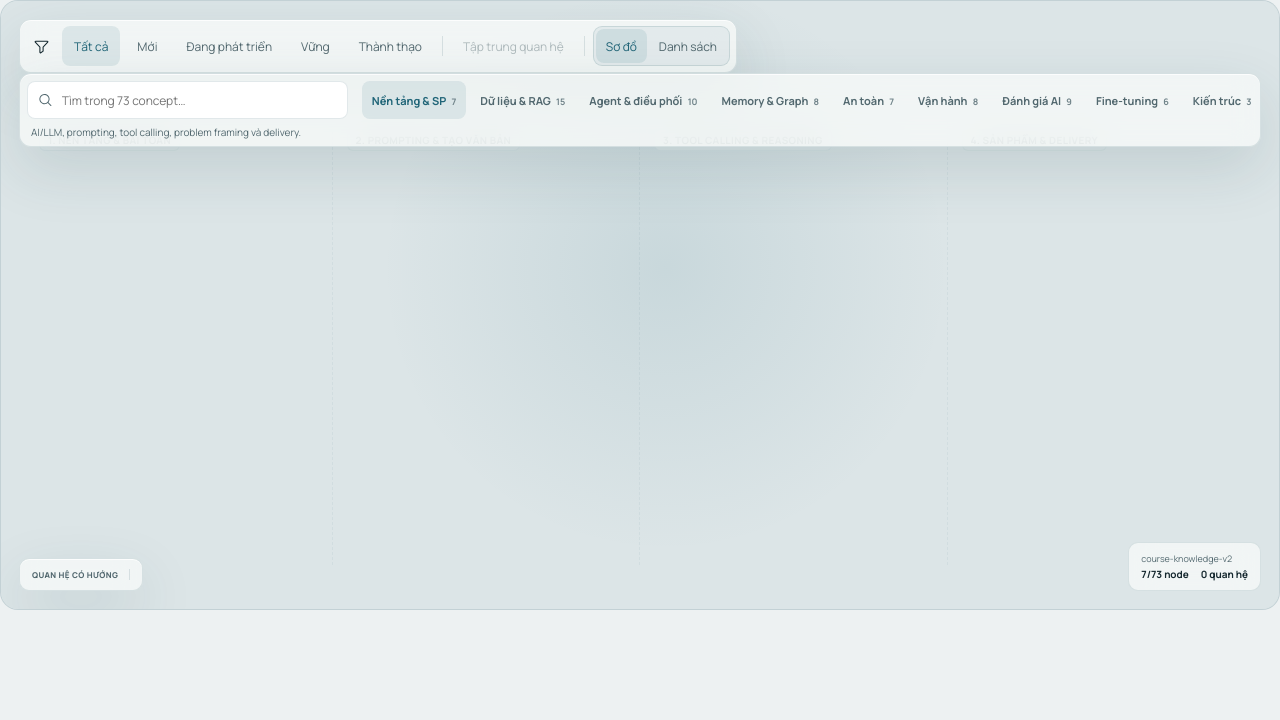
Test case: KnowledgeMapExplorer › uses domain drill-down and global search for the full-course taxonomy
Expected: the search field named "Tìm concept trong toàn bộ bản đồ" is shown, [60,90,337,110]
Click the button "Memory & Graph 8".
click(770, 100)  # box [712,81,829,119]
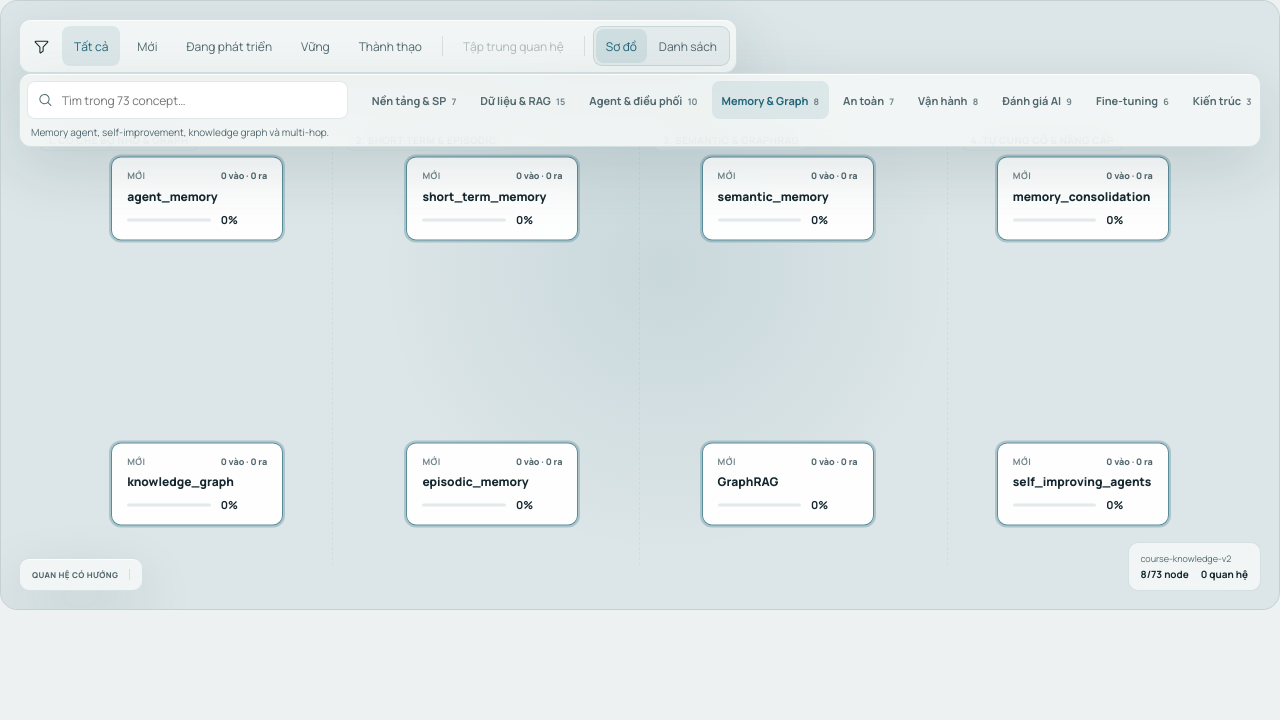
Result: the number of buttons with class "map-node" is 8
Type "GraphRAG" into the search field named "Tìm concept trong toàn bộ bản đồ".
click(198, 100); type("GraphRAG")  # box [60,90,337,110]
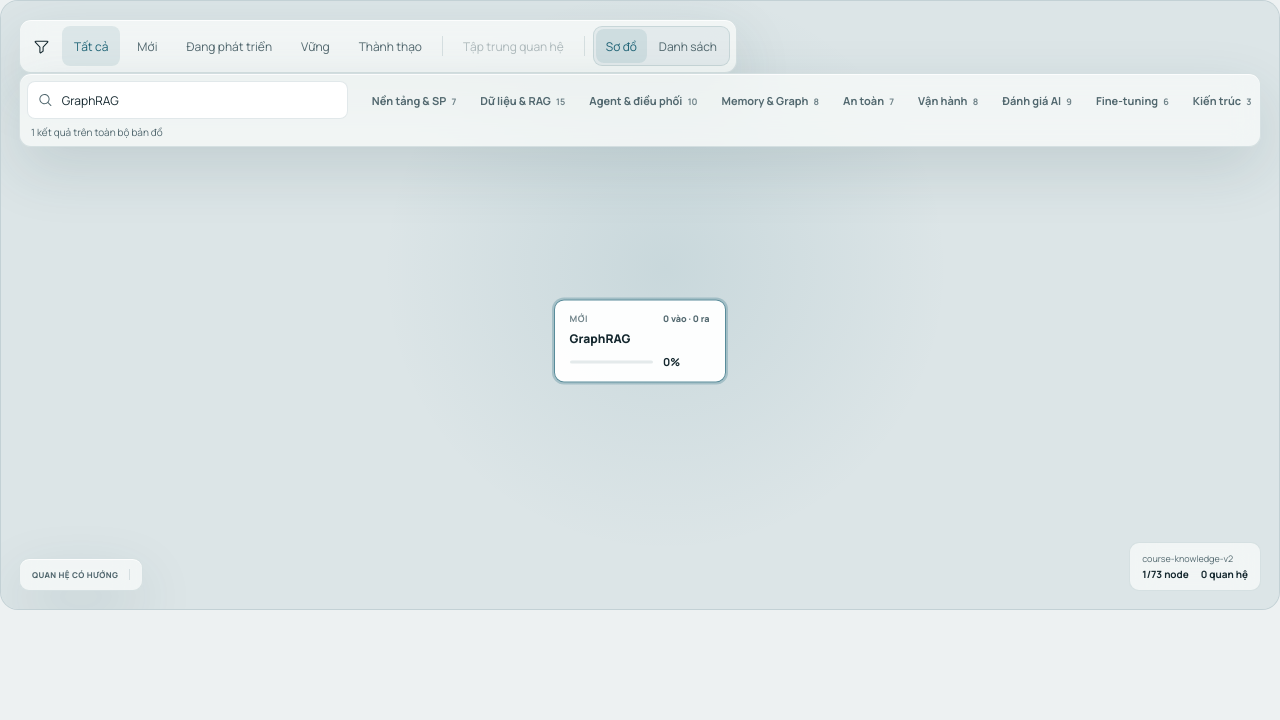
Result: the number of buttons with class "map-node" is 1 at [554,300,726,382]
Result: the text "1 kết quả trên toàn bộ bản đồ" is shown at [31,125,163,139]
